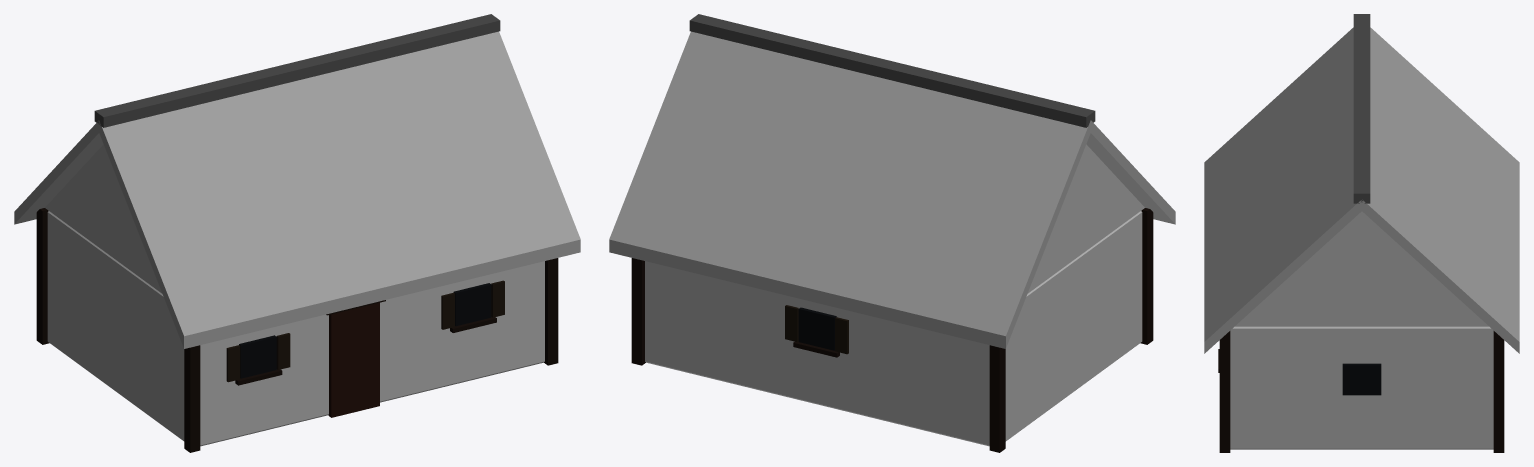
The model's file is home_cottage_g.fbx.
The picture shows the model from 3 angles, left to right: view 1: azimuth 30°, elevation 25°; view 2: azimuth 150°, elevation 25°; view 3: azimuth 270°, elevation 25°; orthographic projection. The views are drawn at different scales.
Parts seen in each view (by area): view 1: home_cottage_g; view 2: home_cottage_g; view 3: home_cottage_g.
Part boxes in pixels (x1,y1,x2,y2): home_cottage_g: (14,14,580,452); home_cottage_g: (609,14,1175,452); home_cottage_g: (1204,14,1519,452).
Size of the model in its own units: 7.76 by 5.35 by 5.76.
